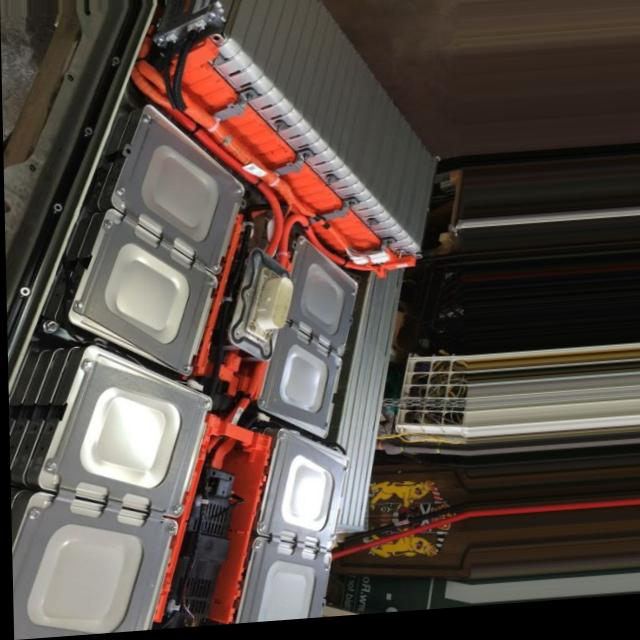Battery Module: (14, 376, 194, 630), (91, 134, 235, 365), (254, 450, 334, 622), (271, 260, 345, 429)
Bolt: (166, 503, 187, 521), (40, 460, 63, 475), (26, 506, 42, 522), (178, 364, 196, 378), (200, 280, 218, 294), (207, 261, 225, 275), (111, 188, 133, 199), (137, 117, 157, 129), (250, 525, 267, 539), (100, 220, 118, 233), (70, 301, 88, 314), (81, 358, 94, 376), (41, 319, 58, 332), (164, 524, 178, 539), (200, 403, 216, 415), (254, 402, 270, 414), (249, 542, 264, 554), (319, 423, 331, 438), (346, 291, 361, 303), (272, 433, 288, 444), (316, 568, 332, 579), (336, 468, 349, 480), (330, 369, 346, 378), (336, 343, 347, 354)
Bus-bar: (148, 417, 265, 626), (194, 220, 250, 382), (214, 357, 246, 402)
Cable: (132, 75, 398, 284)
Nut: (271, 121, 289, 140), (239, 94, 262, 108), (364, 221, 382, 237), (380, 243, 398, 257), (296, 152, 313, 166), (346, 203, 360, 215)
